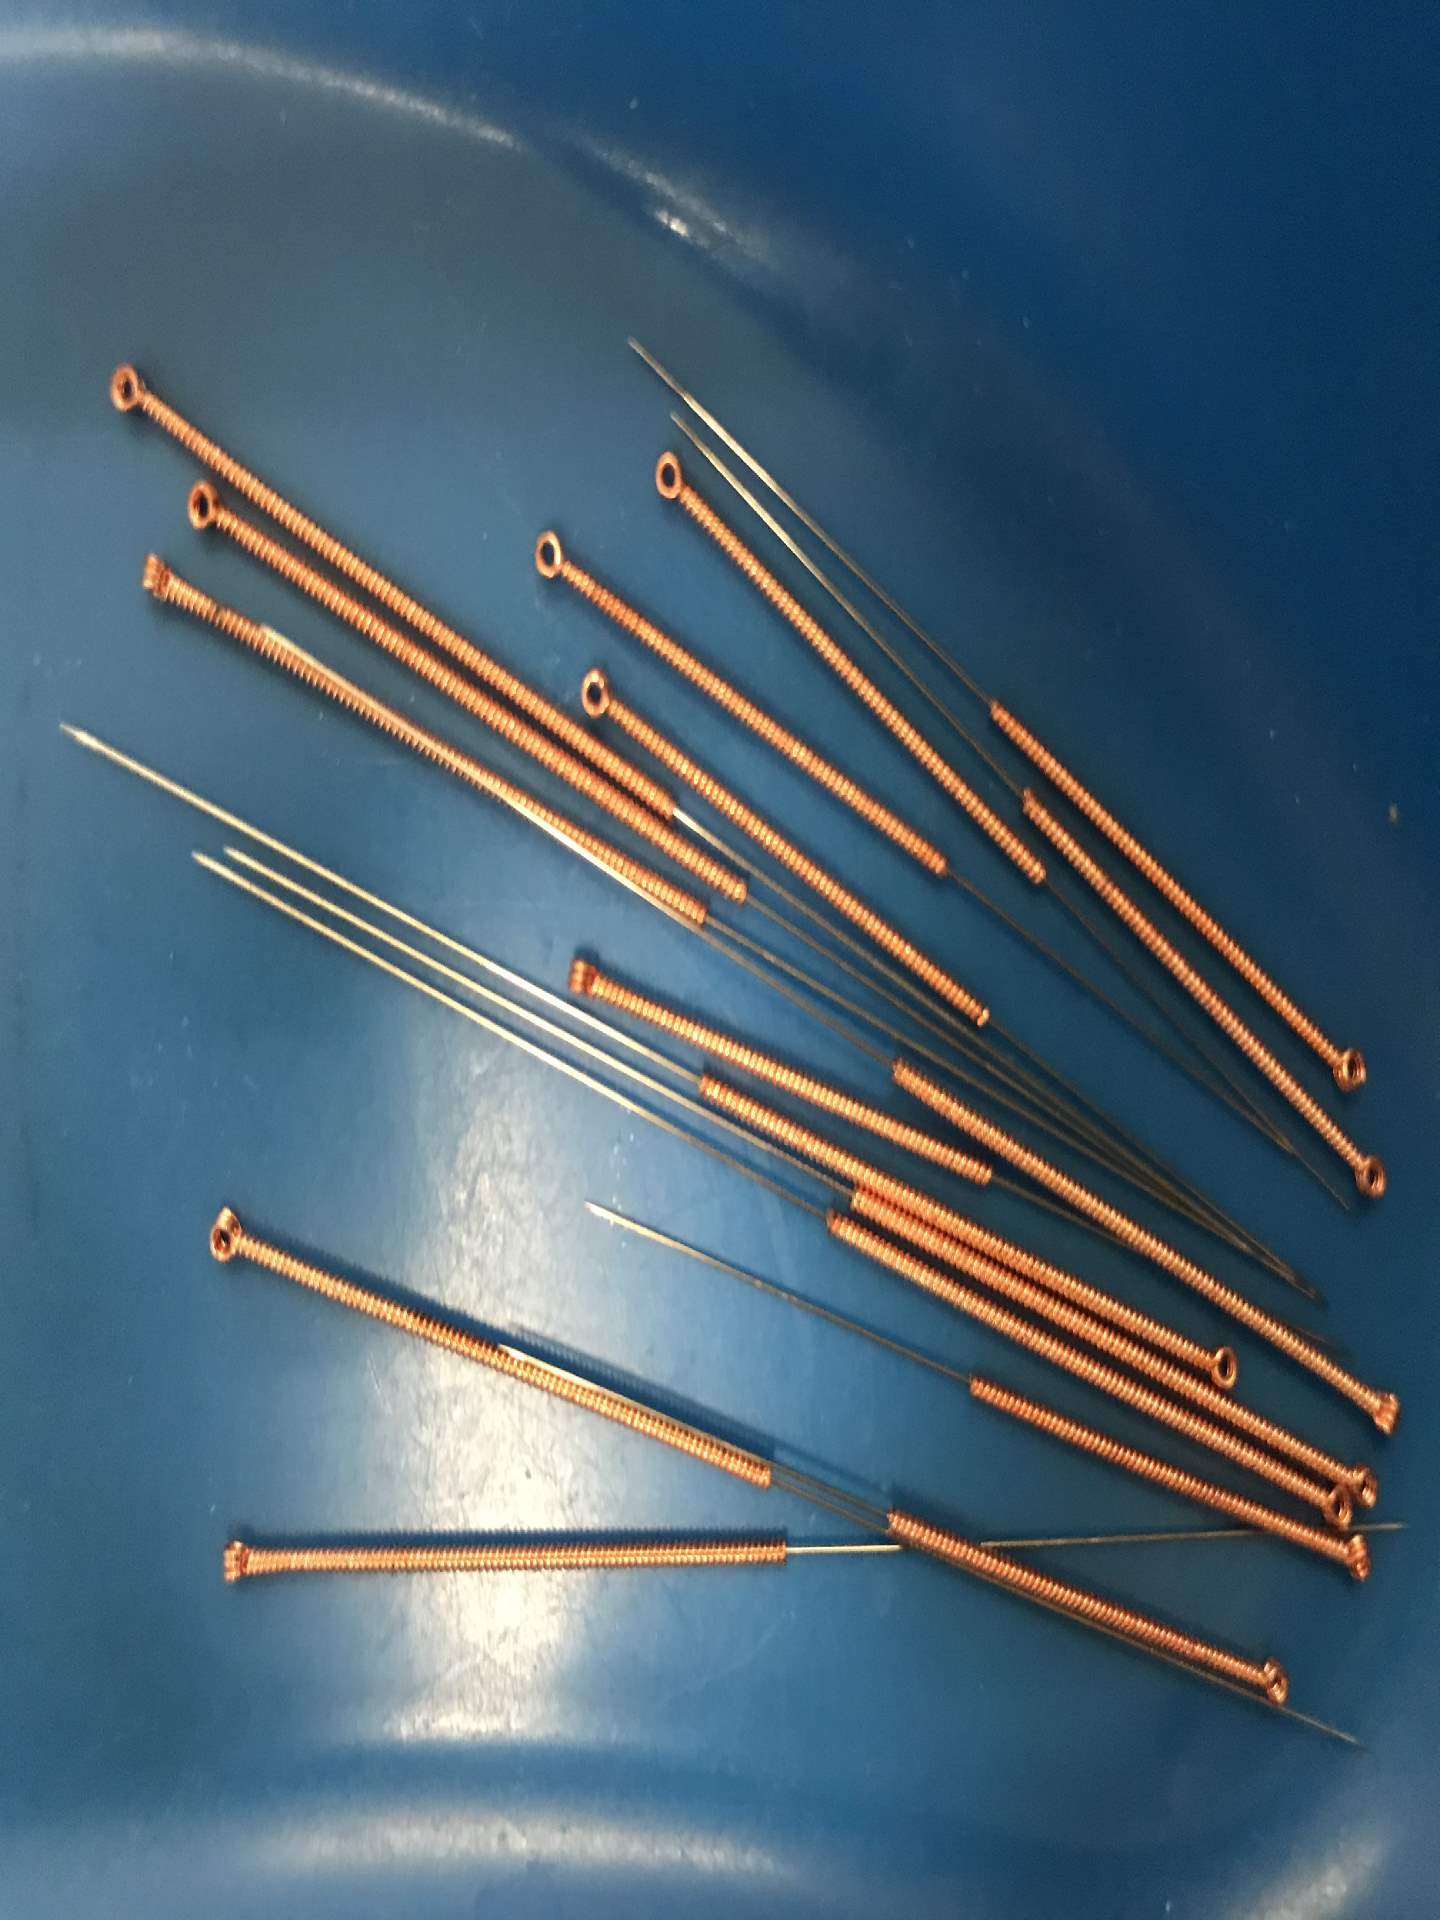needle: (186, 1190, 266, 1281), (629, 437, 709, 517), (1340, 1367, 1413, 1448), (198, 1525, 275, 1599), (1316, 1023, 1389, 1102), (1333, 1135, 1405, 1214), (514, 516, 585, 596), (116, 540, 192, 614), (89, 351, 165, 420), (566, 650, 628, 729), (551, 940, 616, 1014), (165, 469, 230, 543), (1236, 1649, 1305, 1717), (1322, 1528, 1389, 1589), (1296, 1474, 1355, 1531), (1198, 1333, 1243, 1397), (1343, 1454, 1389, 1513)
